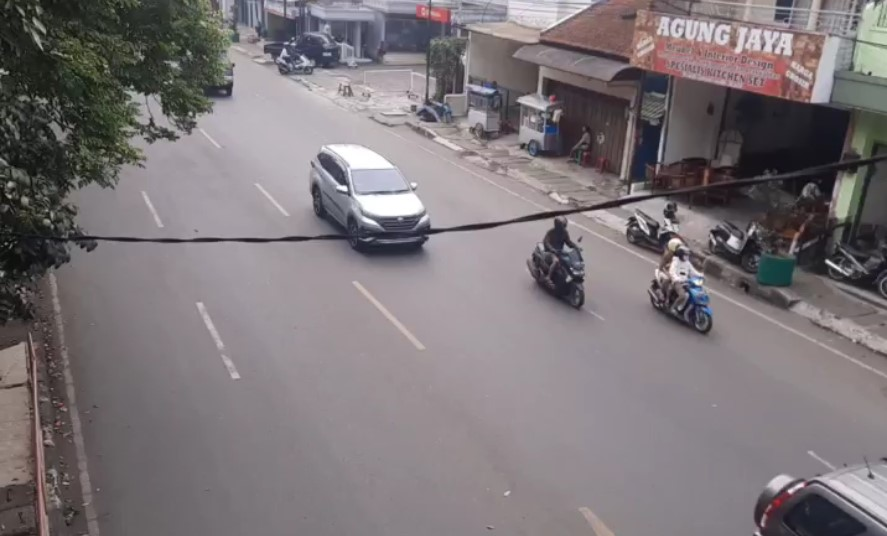mobil: (301, 140, 434, 255)
motor: (529, 214, 586, 314), (654, 243, 712, 336)
